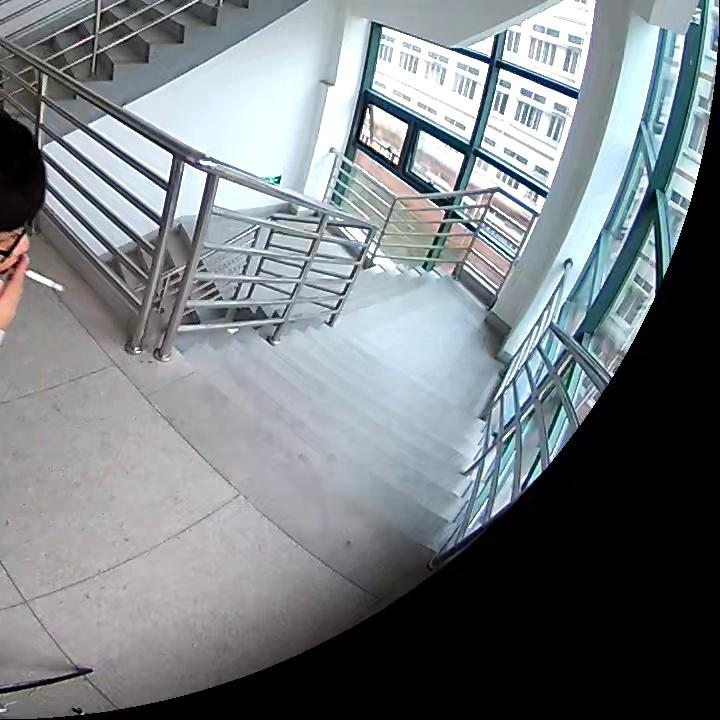mouthsmoke: (1, 115, 65, 328)
